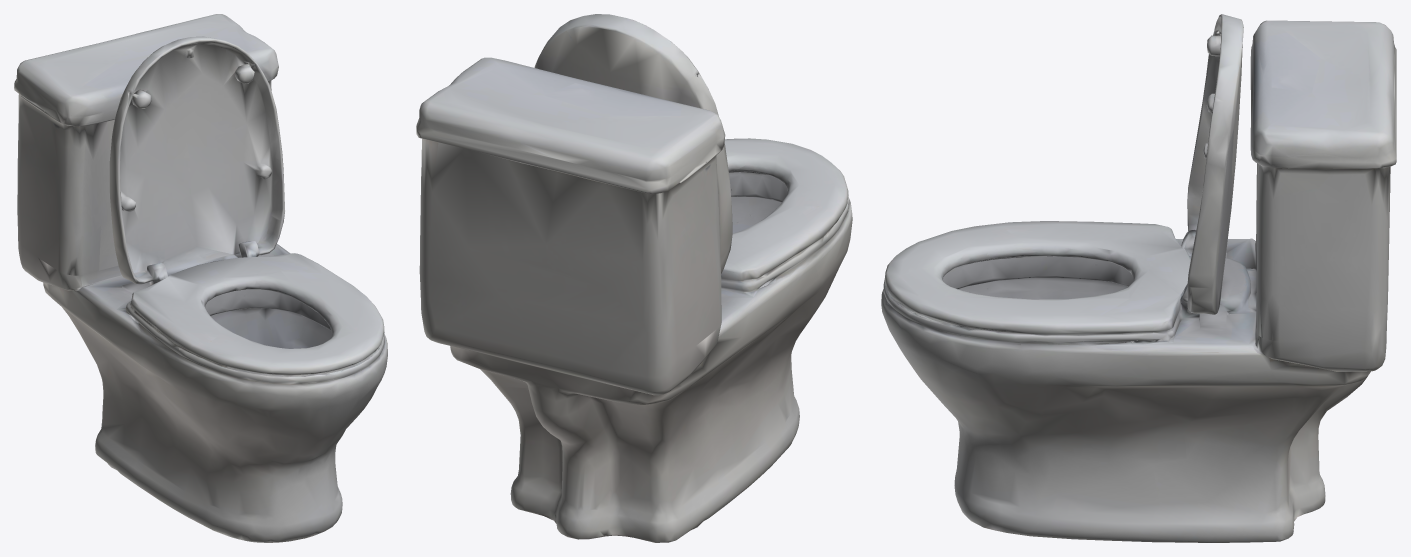
File: toilet-v78.glb
3 views of the same model, side by side, from view 1: azimuth 30°, elevation 25°; view 2: azimuth 150°, elevation 25°; view 3: azimuth 270°, elevation 25° (orthographic). The views are drawn at different scales.
Visible parts, largest first — view 1: toilet-porcelain78; view 2: toilet-porcelain78; view 3: toilet-porcelain78.
Boxes of the visible parts, bbox=[...] form: toilet-porcelain78: bbox=[14, 14, 387, 542]; toilet-porcelain78: bbox=[416, 14, 852, 542]; toilet-porcelain78: bbox=[881, 14, 1396, 542].
Size of the model in its own units: 0.4112 by 0.7453 by 0.7272.
Materials: 1 (1 with a texture image).
